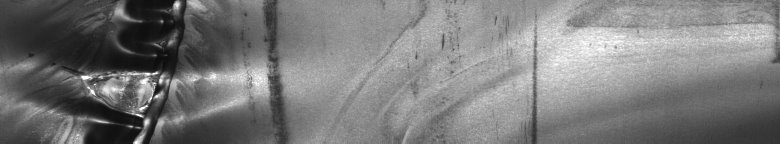ke: (16, 4, 284, 136)
